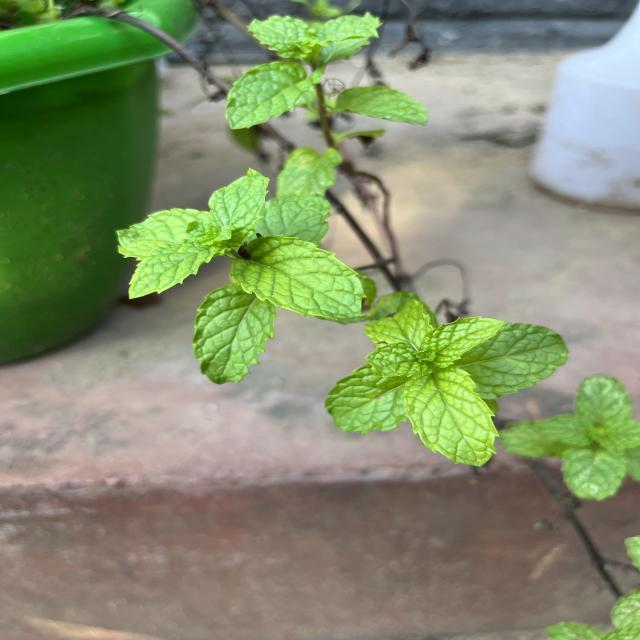Mentha spicata: (230, 233, 368, 322), (402, 366, 502, 466), (192, 282, 276, 384), (125, 238, 221, 300), (422, 314, 508, 368)
